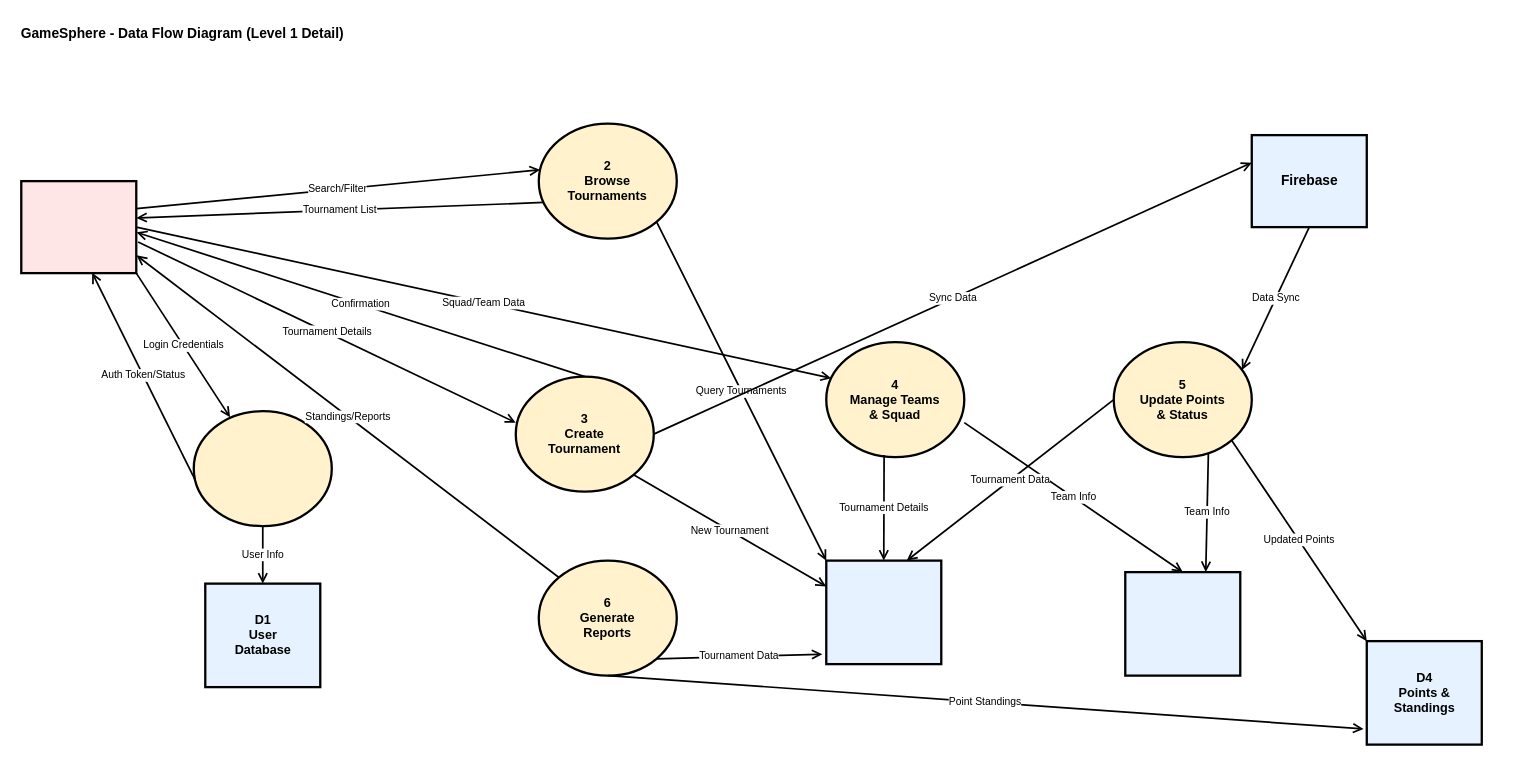
Some shapes in this 1535 by 765 pixel diagram are drawn without their labels. Here are the shapes that lost their labels. From the top down, the centre of each, then its label:
At pixel 78 226: "User".
At pixel 262 468: "1 Authentication".
At pixel 883 612: "D2 Tournament Database".
At pixel 1182 623: "D3 Teams & Squad".
